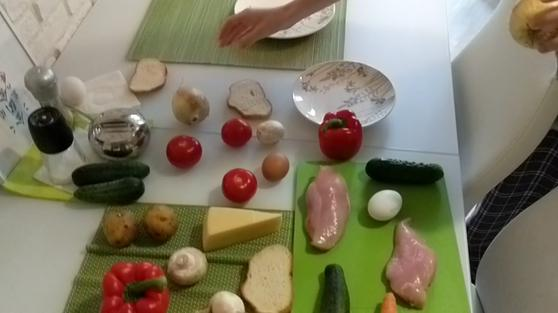champignon: (170, 244, 209, 290), (200, 283, 242, 313), (260, 122, 285, 147)
cheese: (204, 203, 284, 247)
chicken_fillet: (379, 219, 442, 310), (300, 162, 353, 249)
cucumber: (365, 152, 446, 187), (71, 176, 147, 205), (71, 156, 154, 180), (315, 263, 352, 313)
egg: (364, 185, 402, 223), (264, 153, 290, 184)
onion: (174, 84, 214, 126)
pepper: (104, 260, 169, 313), (320, 110, 364, 159)
potato: (142, 202, 179, 245), (103, 206, 138, 248)
tomato: (220, 112, 257, 149), (165, 134, 204, 169), (221, 167, 257, 202)
white_bread: (243, 240, 292, 313), (228, 77, 278, 120), (128, 56, 167, 98)
